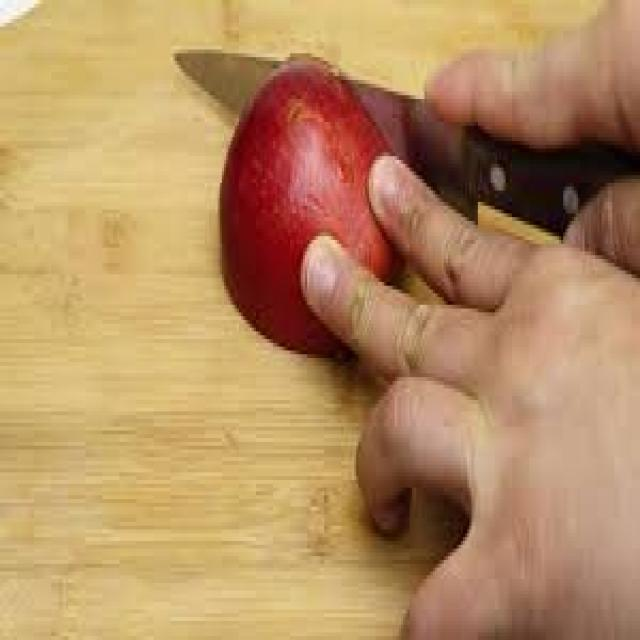Apple: (222, 55, 401, 362)
